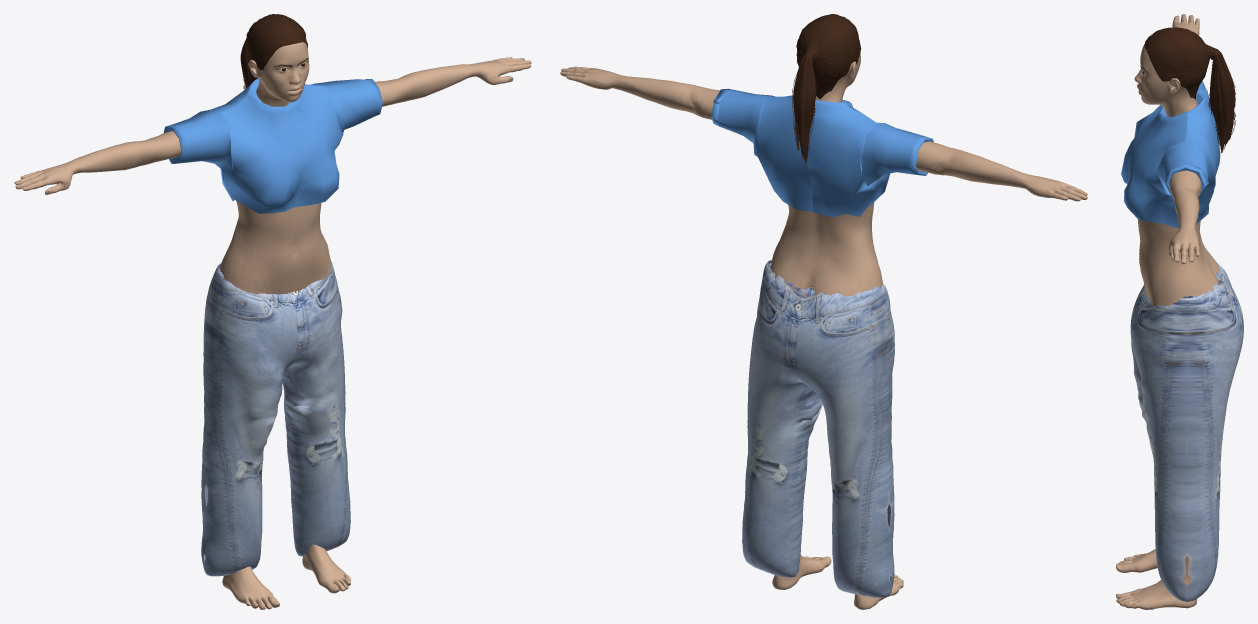
The model's file is coordi1.fbx.
3 views of the same model, side by side, from view 1: azimuth 30°, elevation 25°; view 2: azimuth 150°, elevation 25°; view 3: azimuth 270°, elevation 25° (orthographic). The views are drawn at different scales.
Visible parts, largest first — view 1: Mesh_0, models_womanMesh, node_id32, ponytail01Mesh; view 2: Mesh_0, models_womanMesh, node_id32, ponytail01Mesh; view 3: Mesh_0, models_womanMesh, node_id32, ponytail01Mesh.
Boxes of the visible parts, x1=… form: Mesh_0: x1=201, y1=259, x2=350, y2=576; models_womanMesh: x1=14, y1=42, x2=531, y2=609; node_id32: x1=163, y1=78, x2=382, y2=213; ponytail01Mesh: x1=240, y1=14, x2=307, y2=89; Mesh_0: x1=742, y1=260, x2=894, y2=597; models_womanMesh: x1=560, y1=52, x2=1087, y2=609; node_id32: x1=711, y1=88, x2=933, y2=217; ponytail01Mesh: x1=792, y1=14, x2=861, y2=163; Mesh_0: x1=1130, y1=263, x2=1243, y2=601; models_womanMesh: x1=1116, y1=14, x2=1219, y2=609; node_id32: x1=1121, y1=81, x2=1220, y2=228; ponytail01Mesh: x1=1144, y1=27, x2=1235, y2=152.
Size of the model in its own units: 1573 by 1646 by 342.
Materials: 8 (1 with a texture image).
